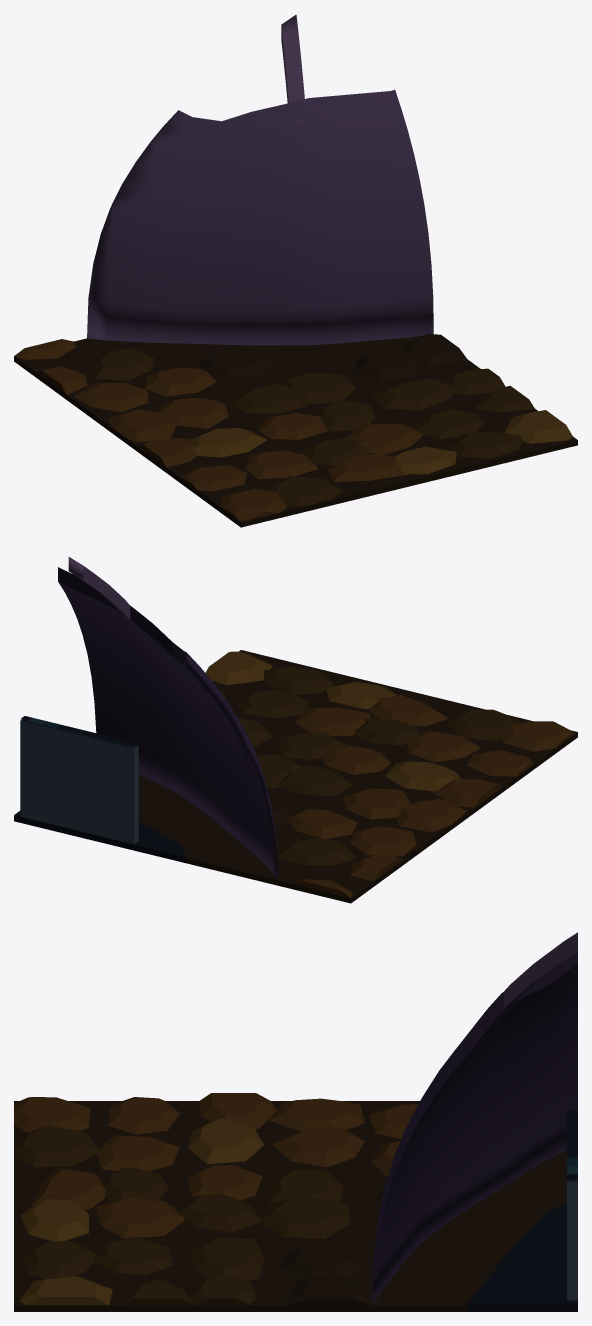
File: newshr-81.glb
3 views of the same model, one above another, from view 1: azimuth 30°, elevation 25°; view 2: azimuth 150°, elevation 25°; view 3: azimuth 270°, elevation 25° (orthographic). The views are drawn at different scales.
Visible parts, largest first — view 1: newshr-81; view 2: newshr-81; view 3: newshr-81.
Boxes of the visible parts, left/top/right/bottom form: newshr-81: left=14, top=15, right=577, bottom=527; newshr-81: left=14, top=557, right=577, bottom=903; newshr-81: left=14, top=932, right=577, bottom=1311.
Size of the model in its own units: 2 by 1.58 by 2.33.
